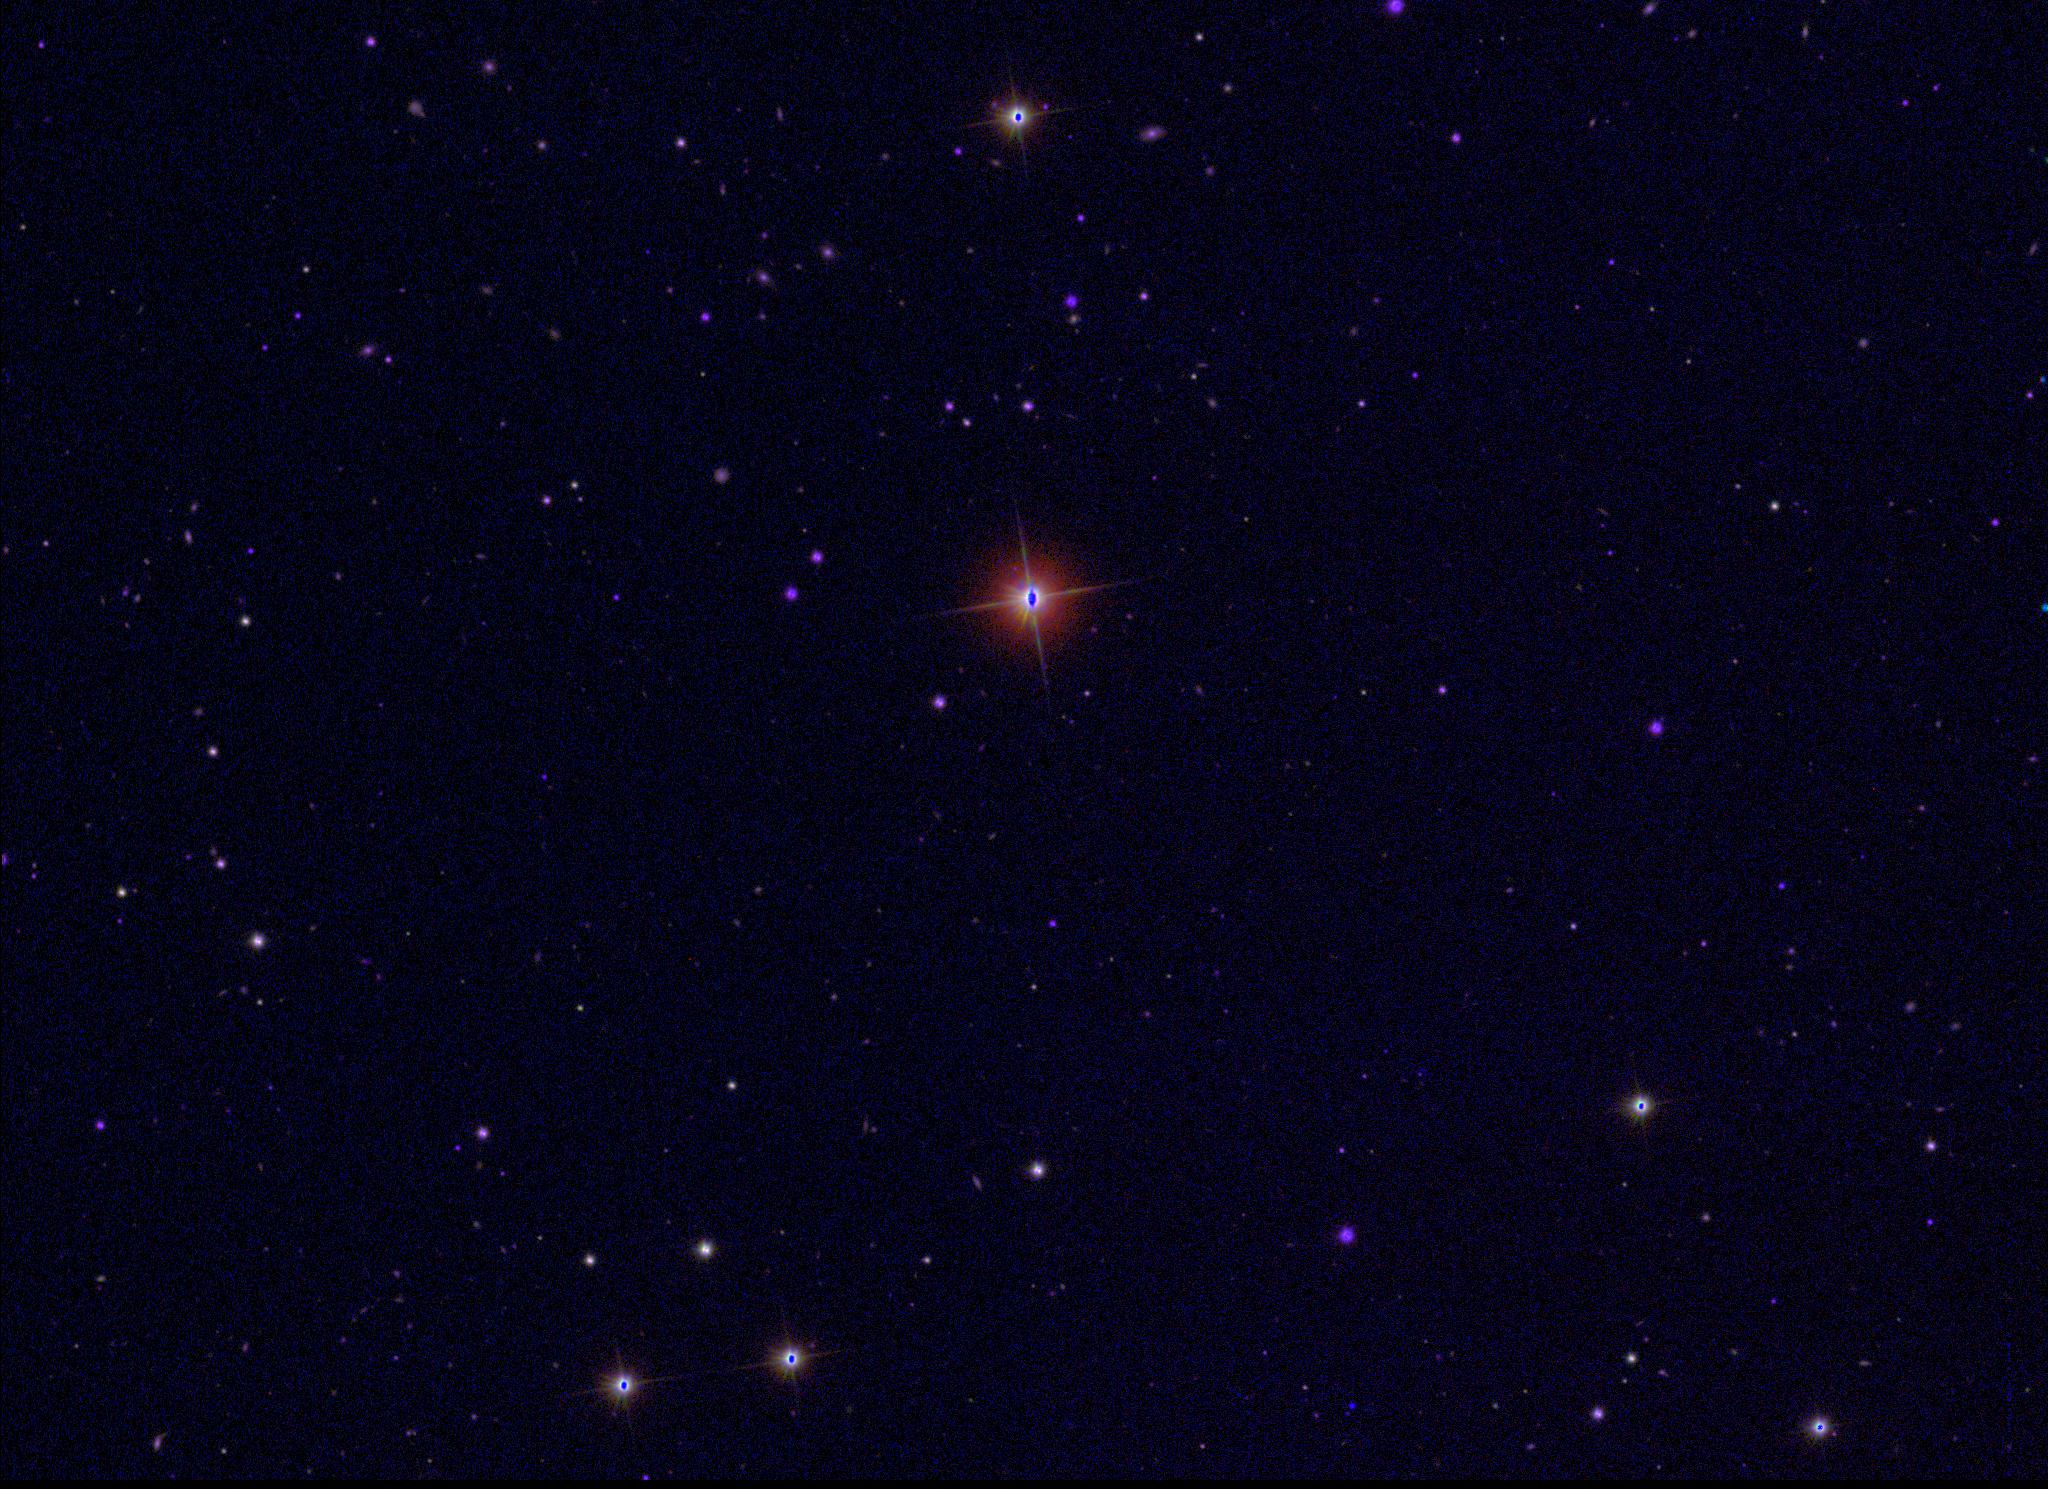L: (1347, 1398, 1360, 1413)
